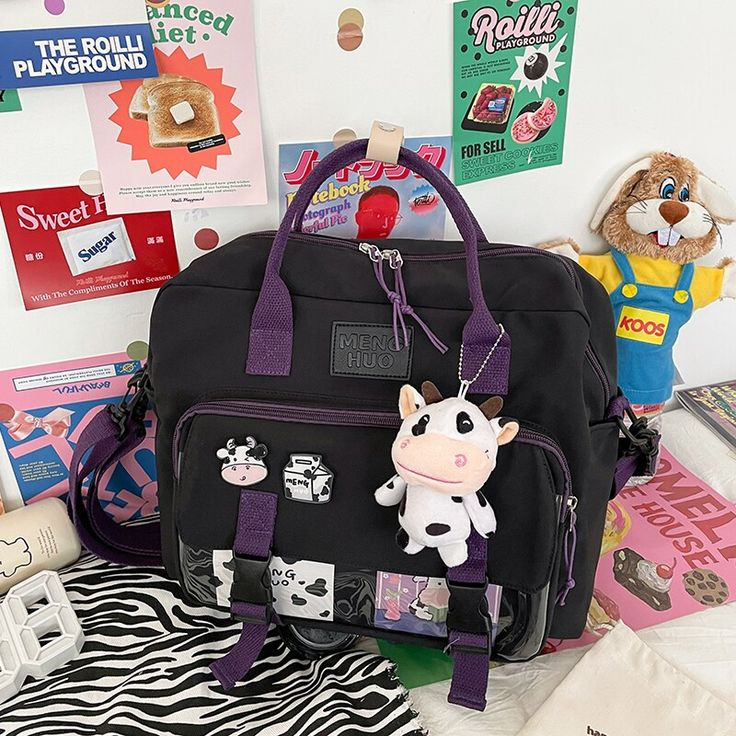nylon: (147, 234, 618, 663)
